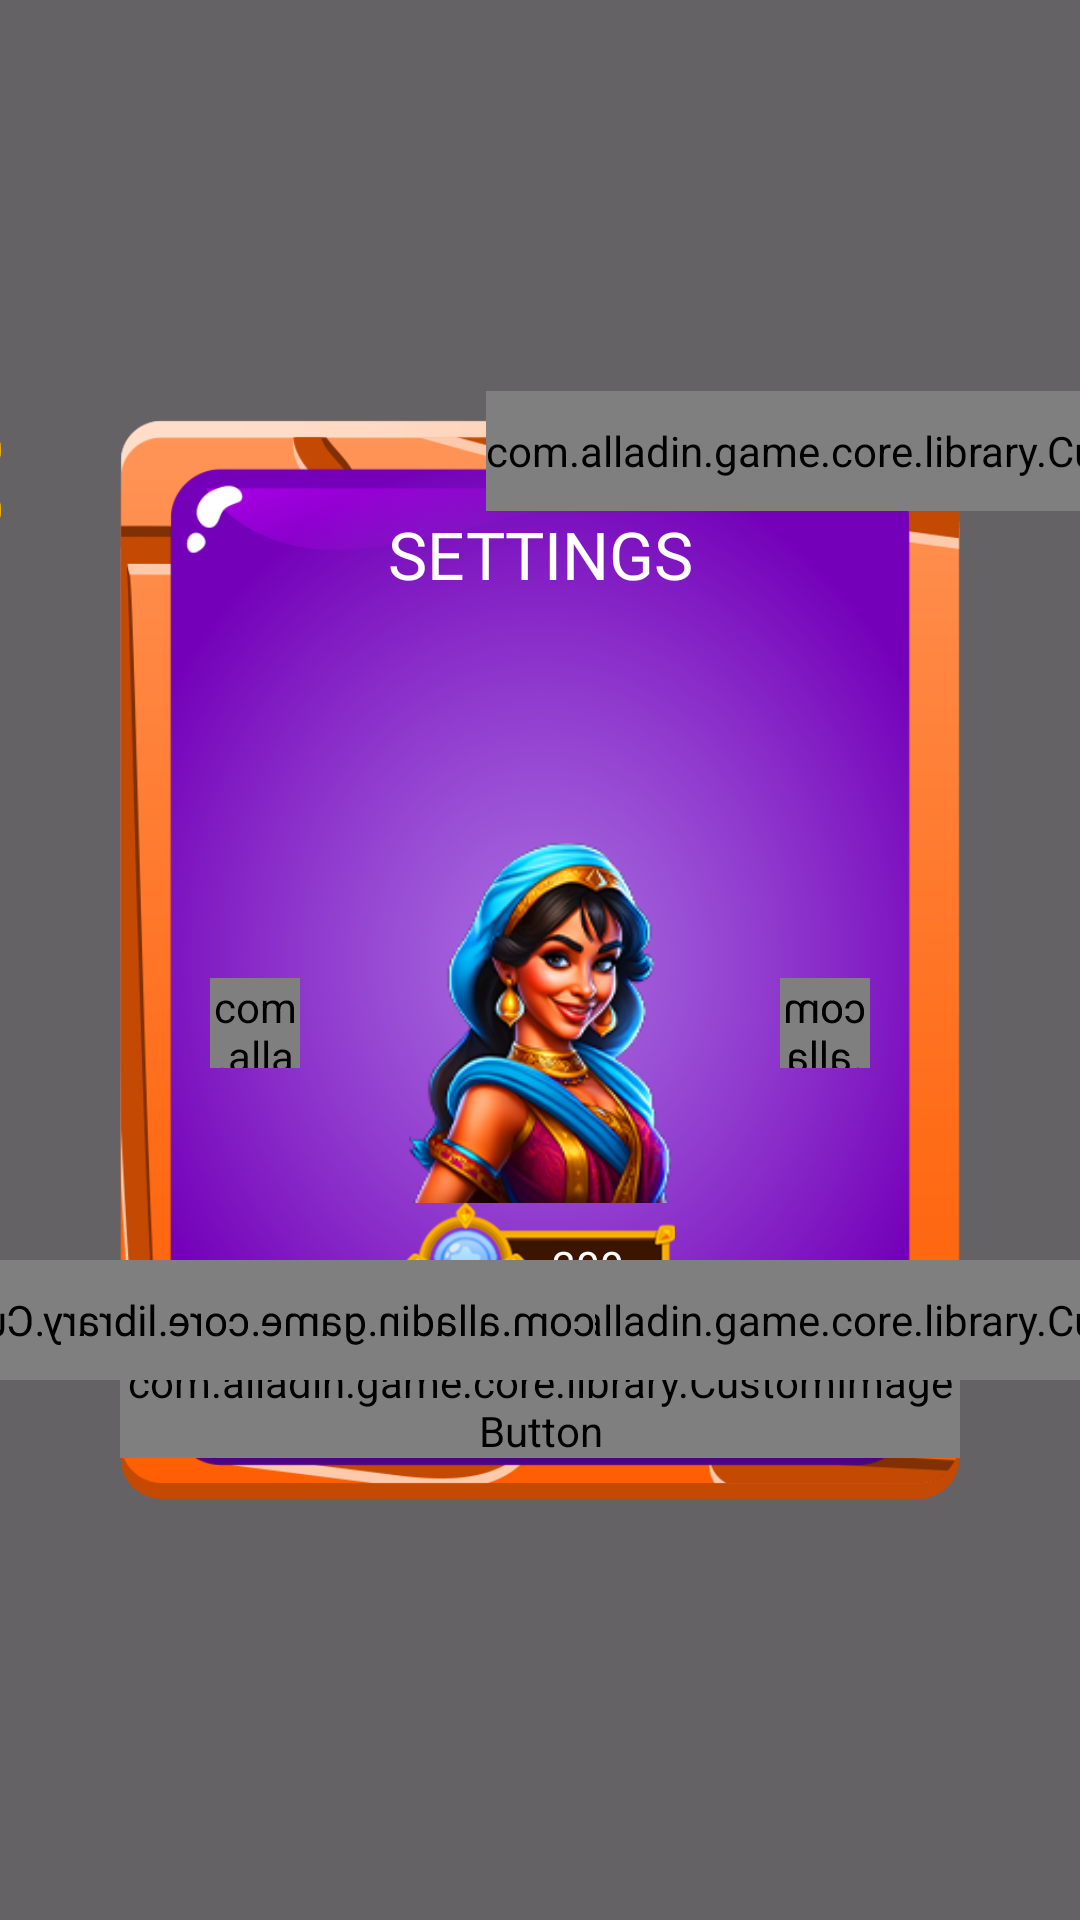

Icons on this 1080w x 1920h Android screen, each with the point to tap as [x,y]:
player: [540,1023]
